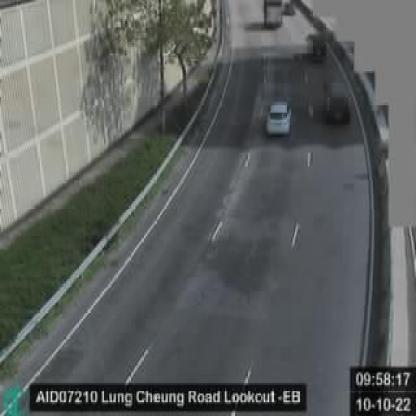Car: (324, 83, 354, 125), (265, 100, 292, 137), (307, 32, 327, 62)
Truck: (263, 0, 286, 26)
